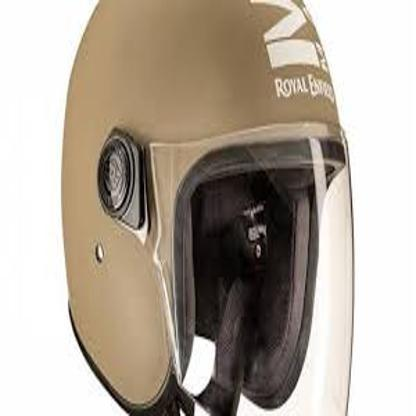not trash: (56, 0, 381, 416)
